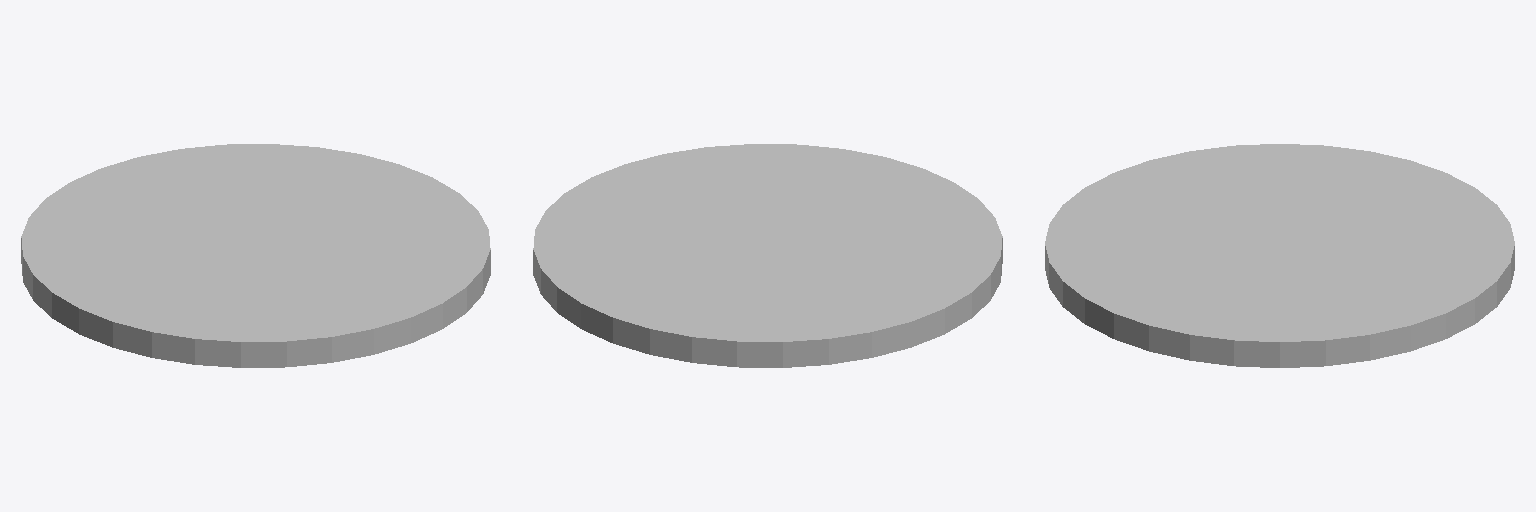
File: World_map.obj
The picture shows the model from 3 angles: view 1: azimuth 30°, elevation 25°; view 2: azimuth 150°, elevation 25°; view 3: azimuth 270°, elevation 25°; orthographic projection.
Visible parts, largest first — view 1: Cylinder; view 2: Cylinder; view 3: Cylinder.
Part boxes in pixels (left/top/right/bottom): Cylinder: left=21, top=144, right=490, bottom=367; Cylinder: left=533, top=144, right=1002, bottom=367; Cylinder: left=1045, top=144, right=1514, bottom=367.
Bounding box in the file's own units: 60 × 3.65 × 60.